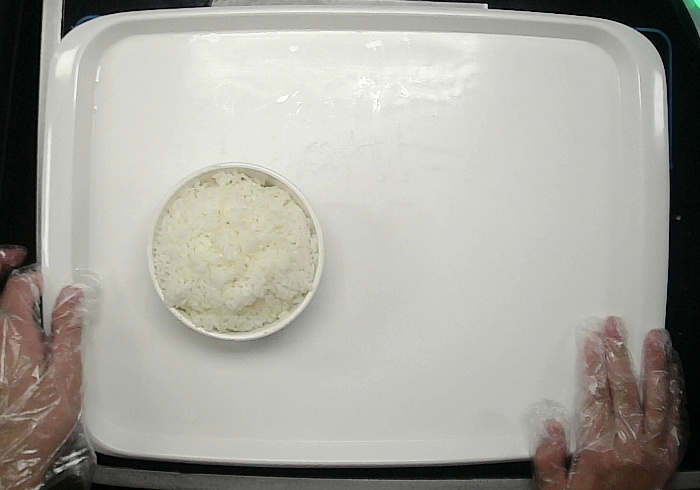HZYJPL-Fan_Wan: (145, 161, 324, 341)
